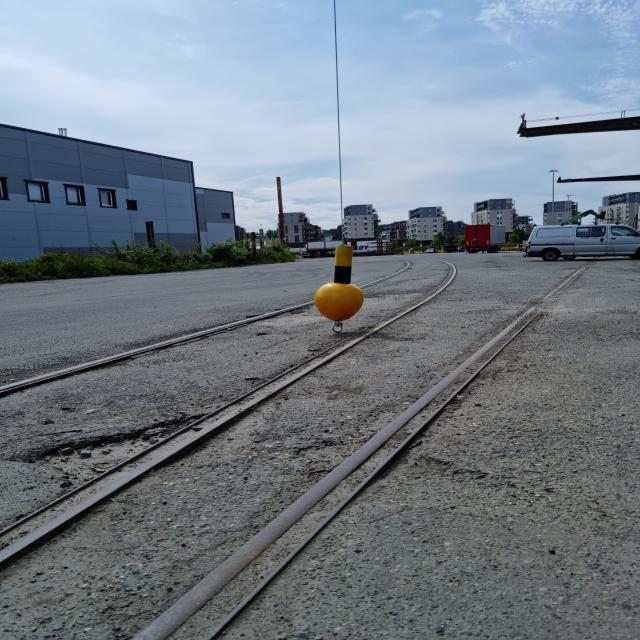west: (313, 244, 365, 322)
